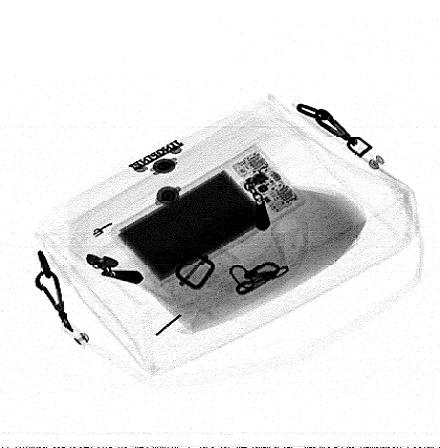Powerbank: (110, 143, 306, 288)
